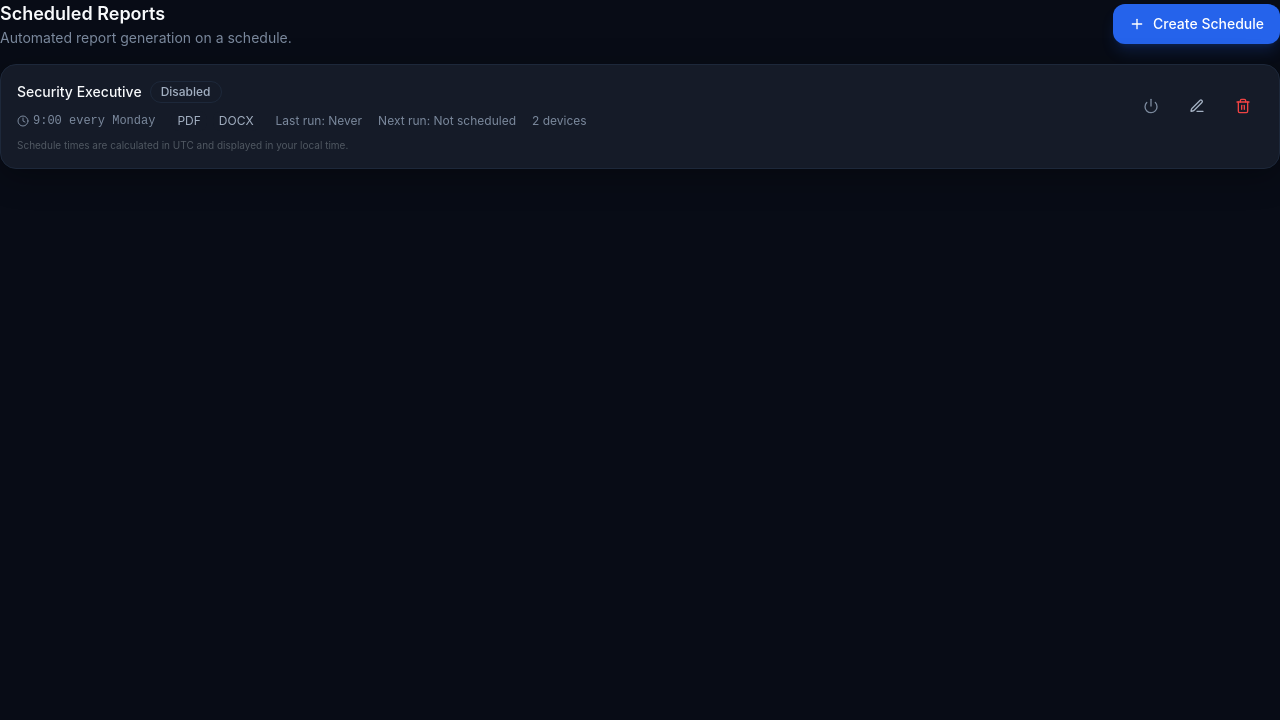
Scenario: ScheduledReportsSection › Edit Schedule › Edit button opens the dialog
Click the button named "edit schedule": (1197, 106) [1177,88,1217,124]
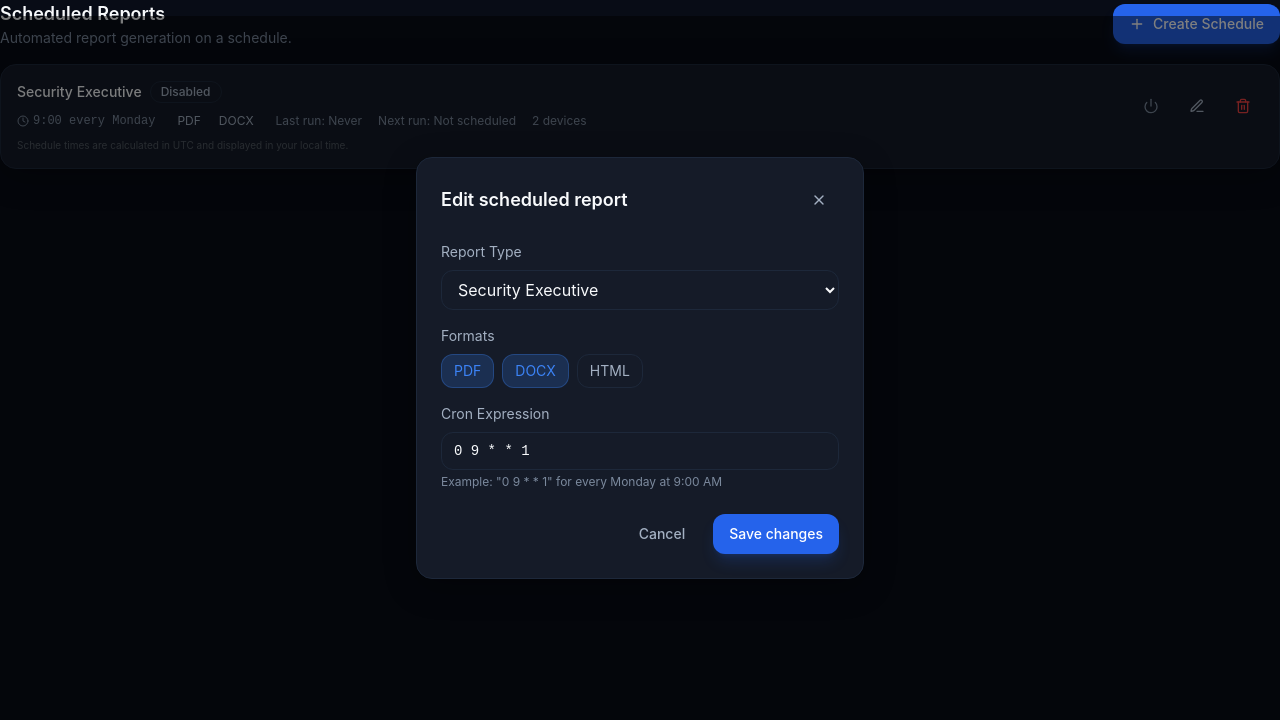
Result: the dialog is shown
Result: the heading "Edit scheduled report" is shown at [441,186,628,214]
